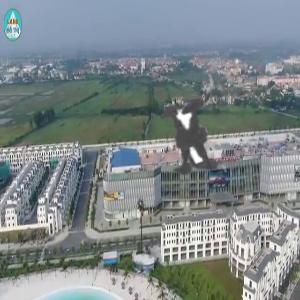drone: (97, 49, 286, 238)
